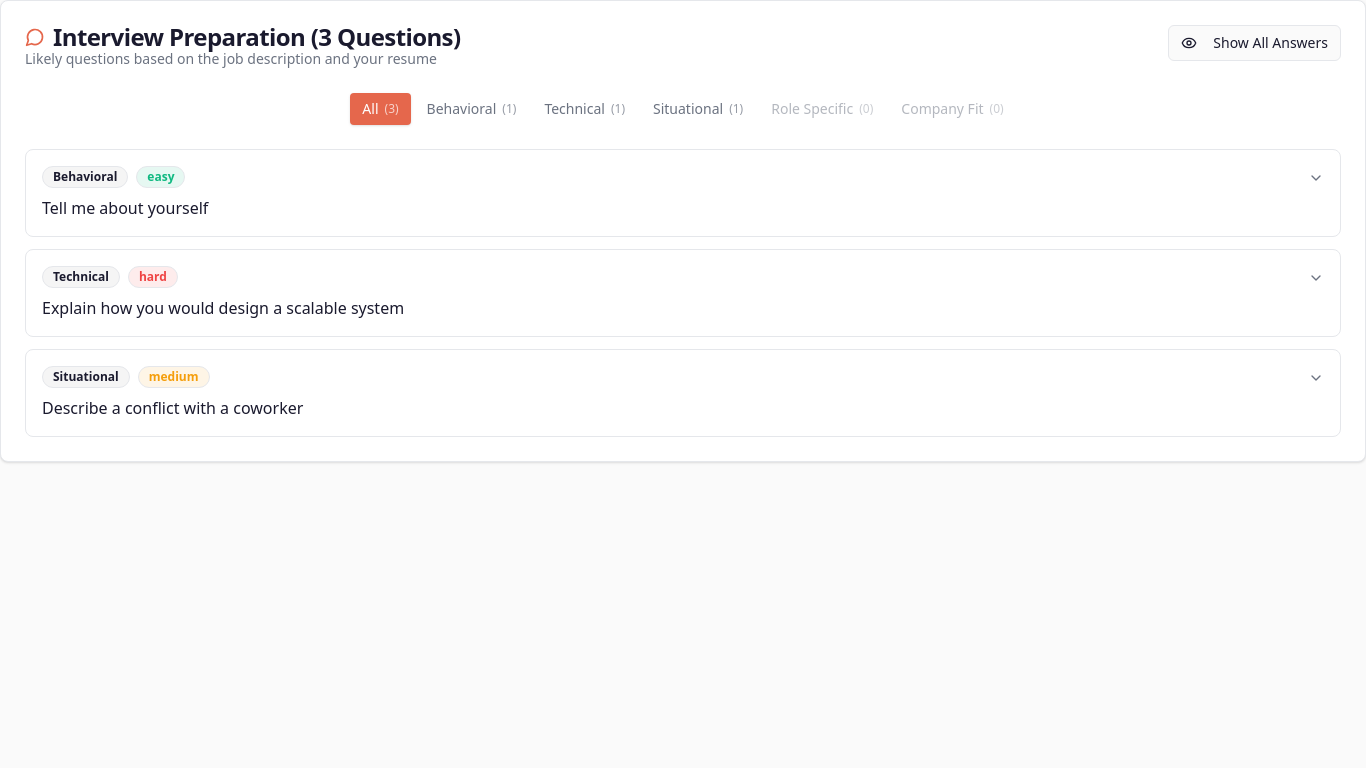
Scenario: InterviewQuestions › expands a question to show the suggested answer when clicked
# Click on question to expand
Click the text "Tell me about yourself" at {"x": 125, "y": 208}, box [42,197,208,219]
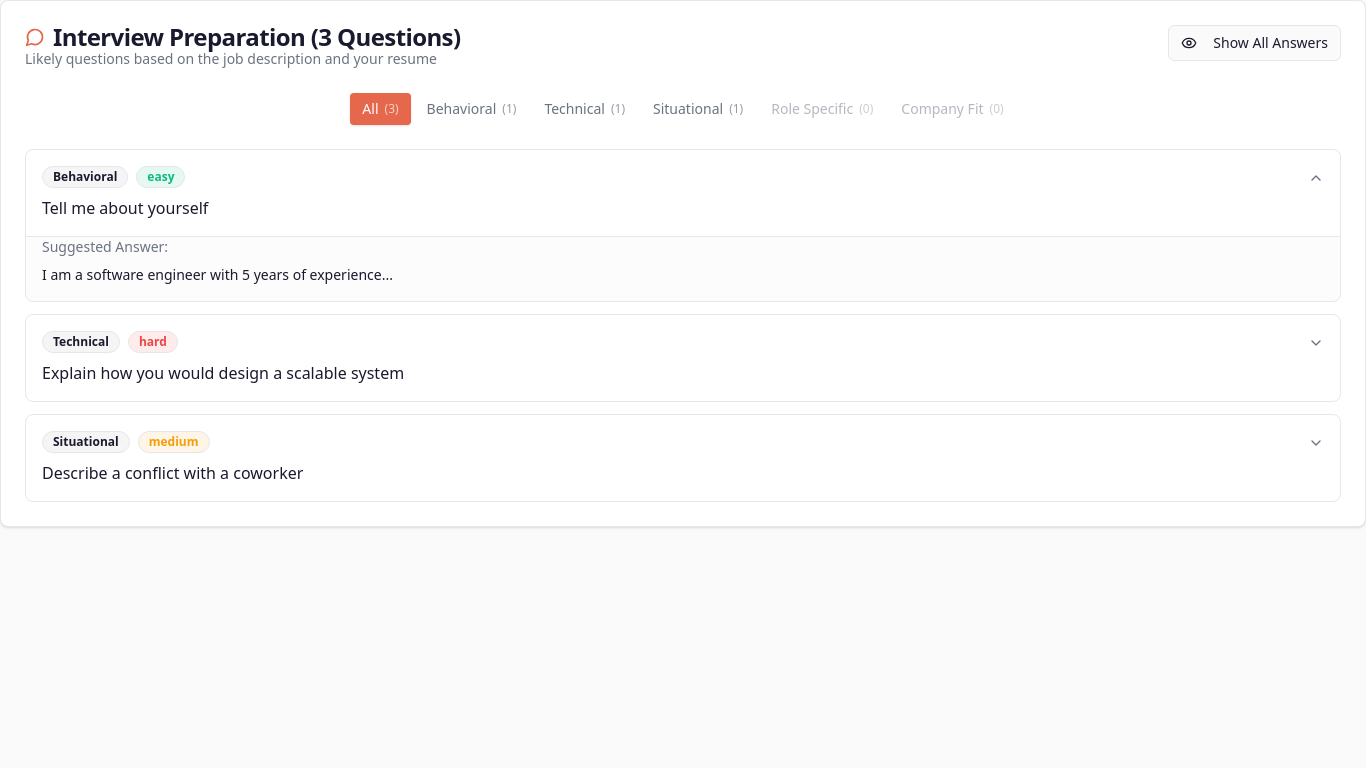
Expected: the text "I am a software engineer with 5 years of experience..." is shown, [42,265,393,284]
